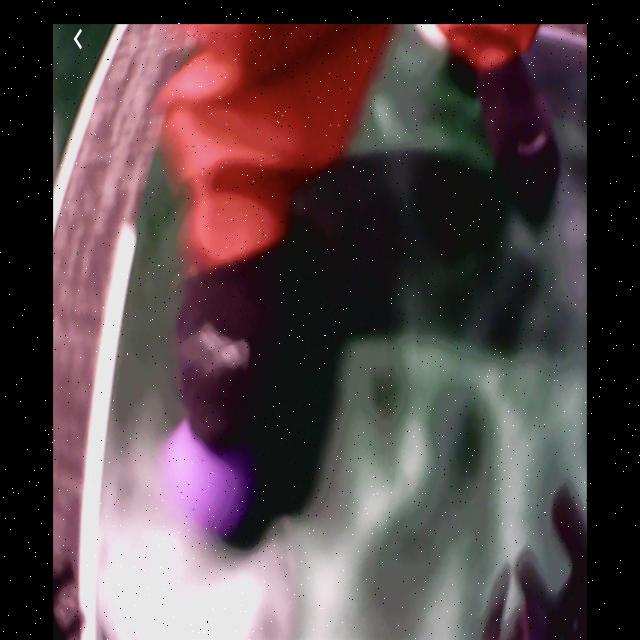ball: (167, 422, 251, 535)
